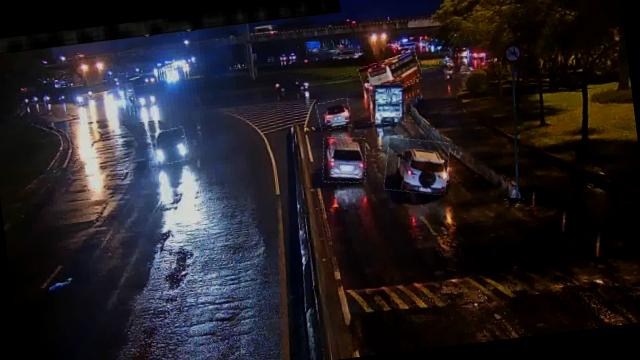Bus: (358, 52, 423, 93)
Car: (381, 133, 454, 199), (318, 133, 368, 185), (150, 127, 190, 165), (316, 98, 352, 130)
Truck: (368, 81, 407, 125)
